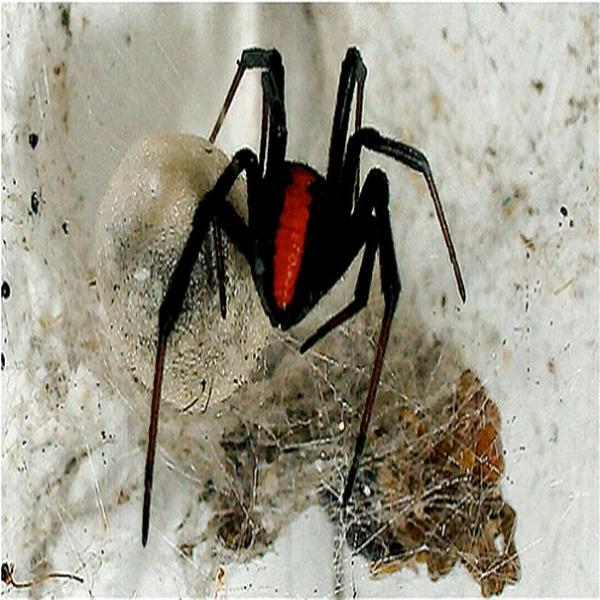Redback_Spider: (141, 46, 467, 548)
